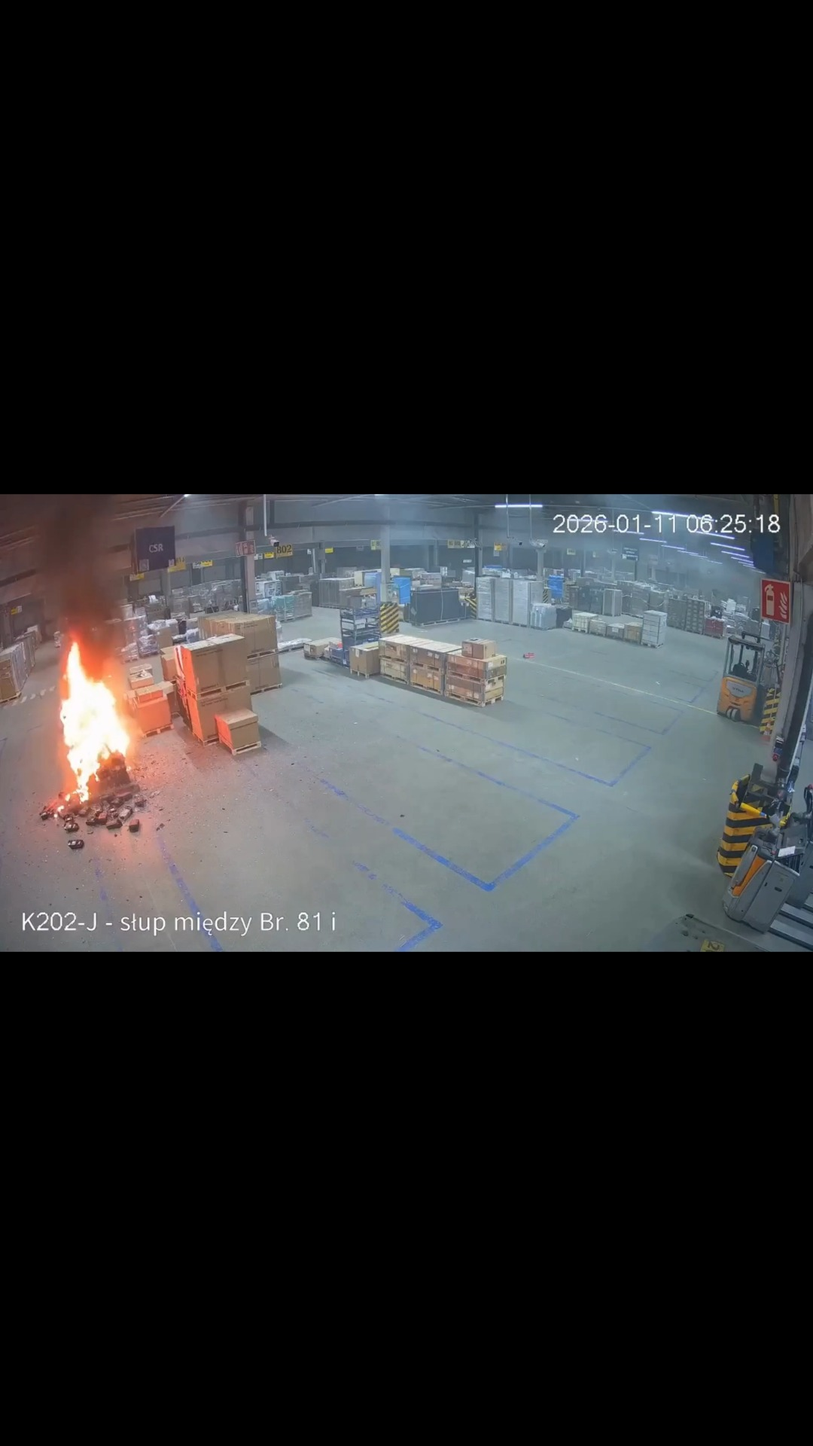fire: (53, 632, 139, 811)
smoke: (0, 495, 135, 656)
